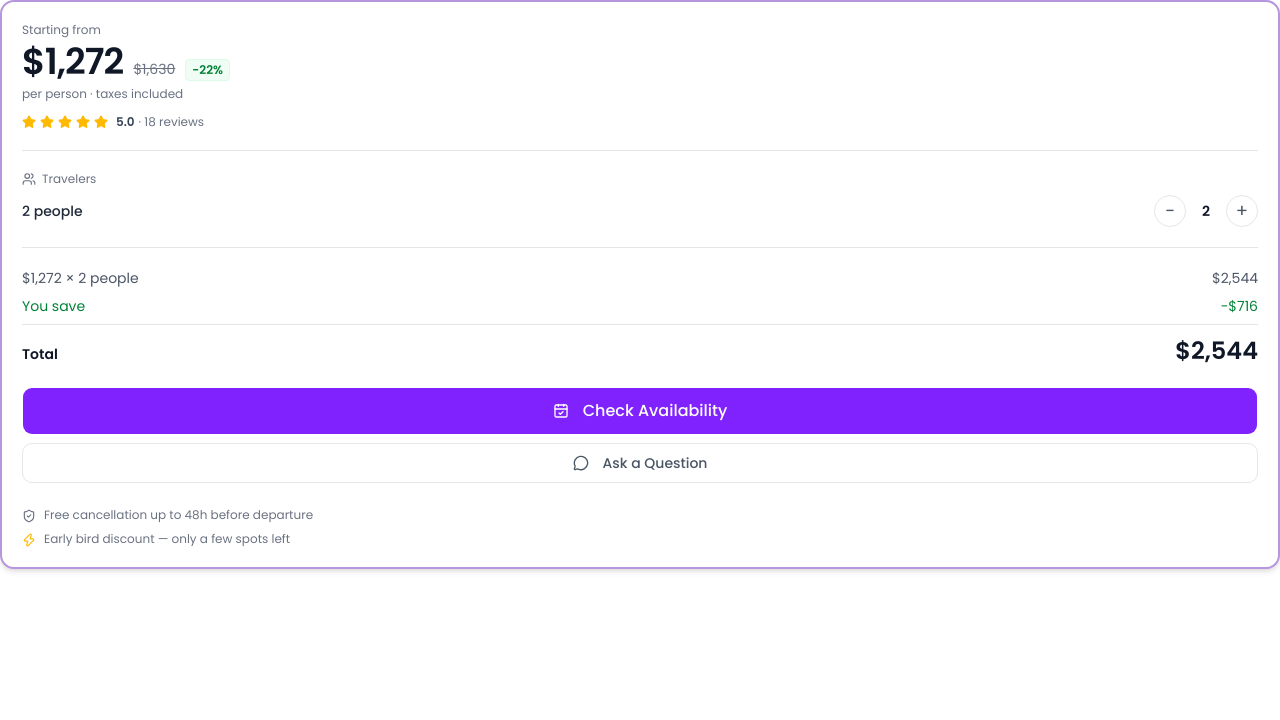
Scenario: BookingCard › increments traveler count
This screenshot has width=1280, height=720.
Click the button "+". click: [1242, 211]
box: x1=1226 y1=195 x2=1258 y2=227
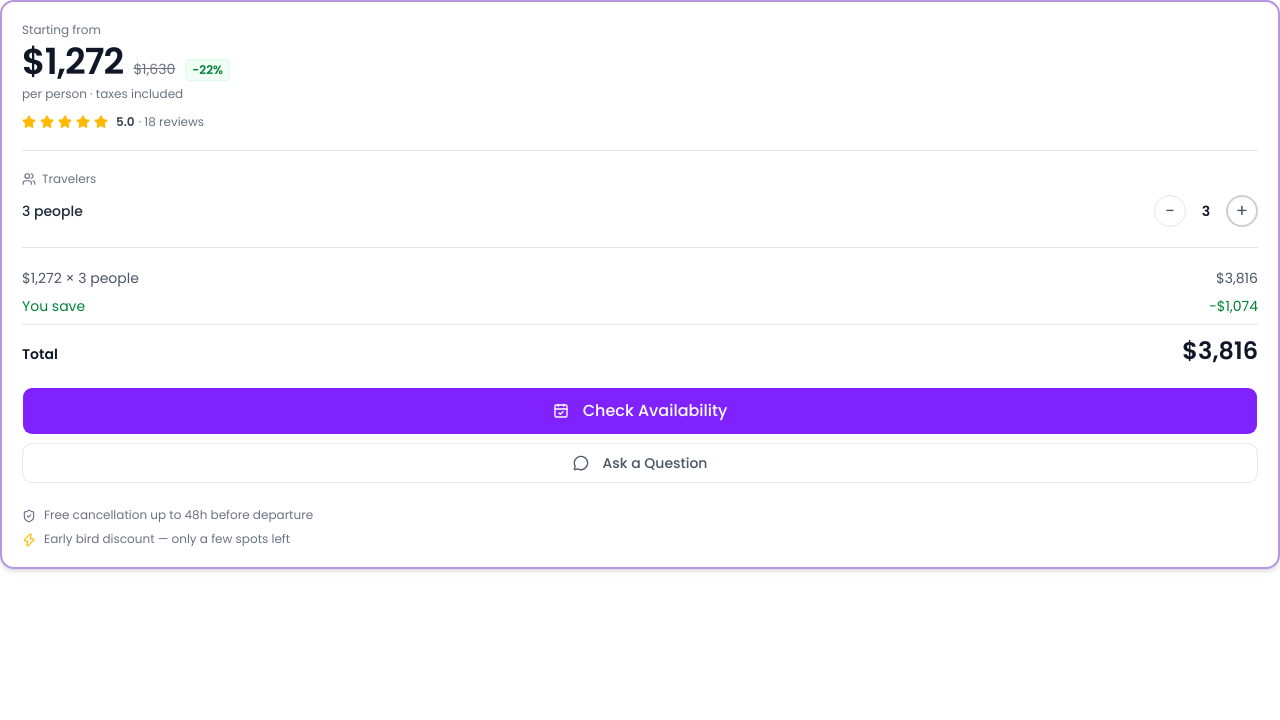
Result: the text "3 people" is shown at x1=22 y1=201 x2=83 y2=221
